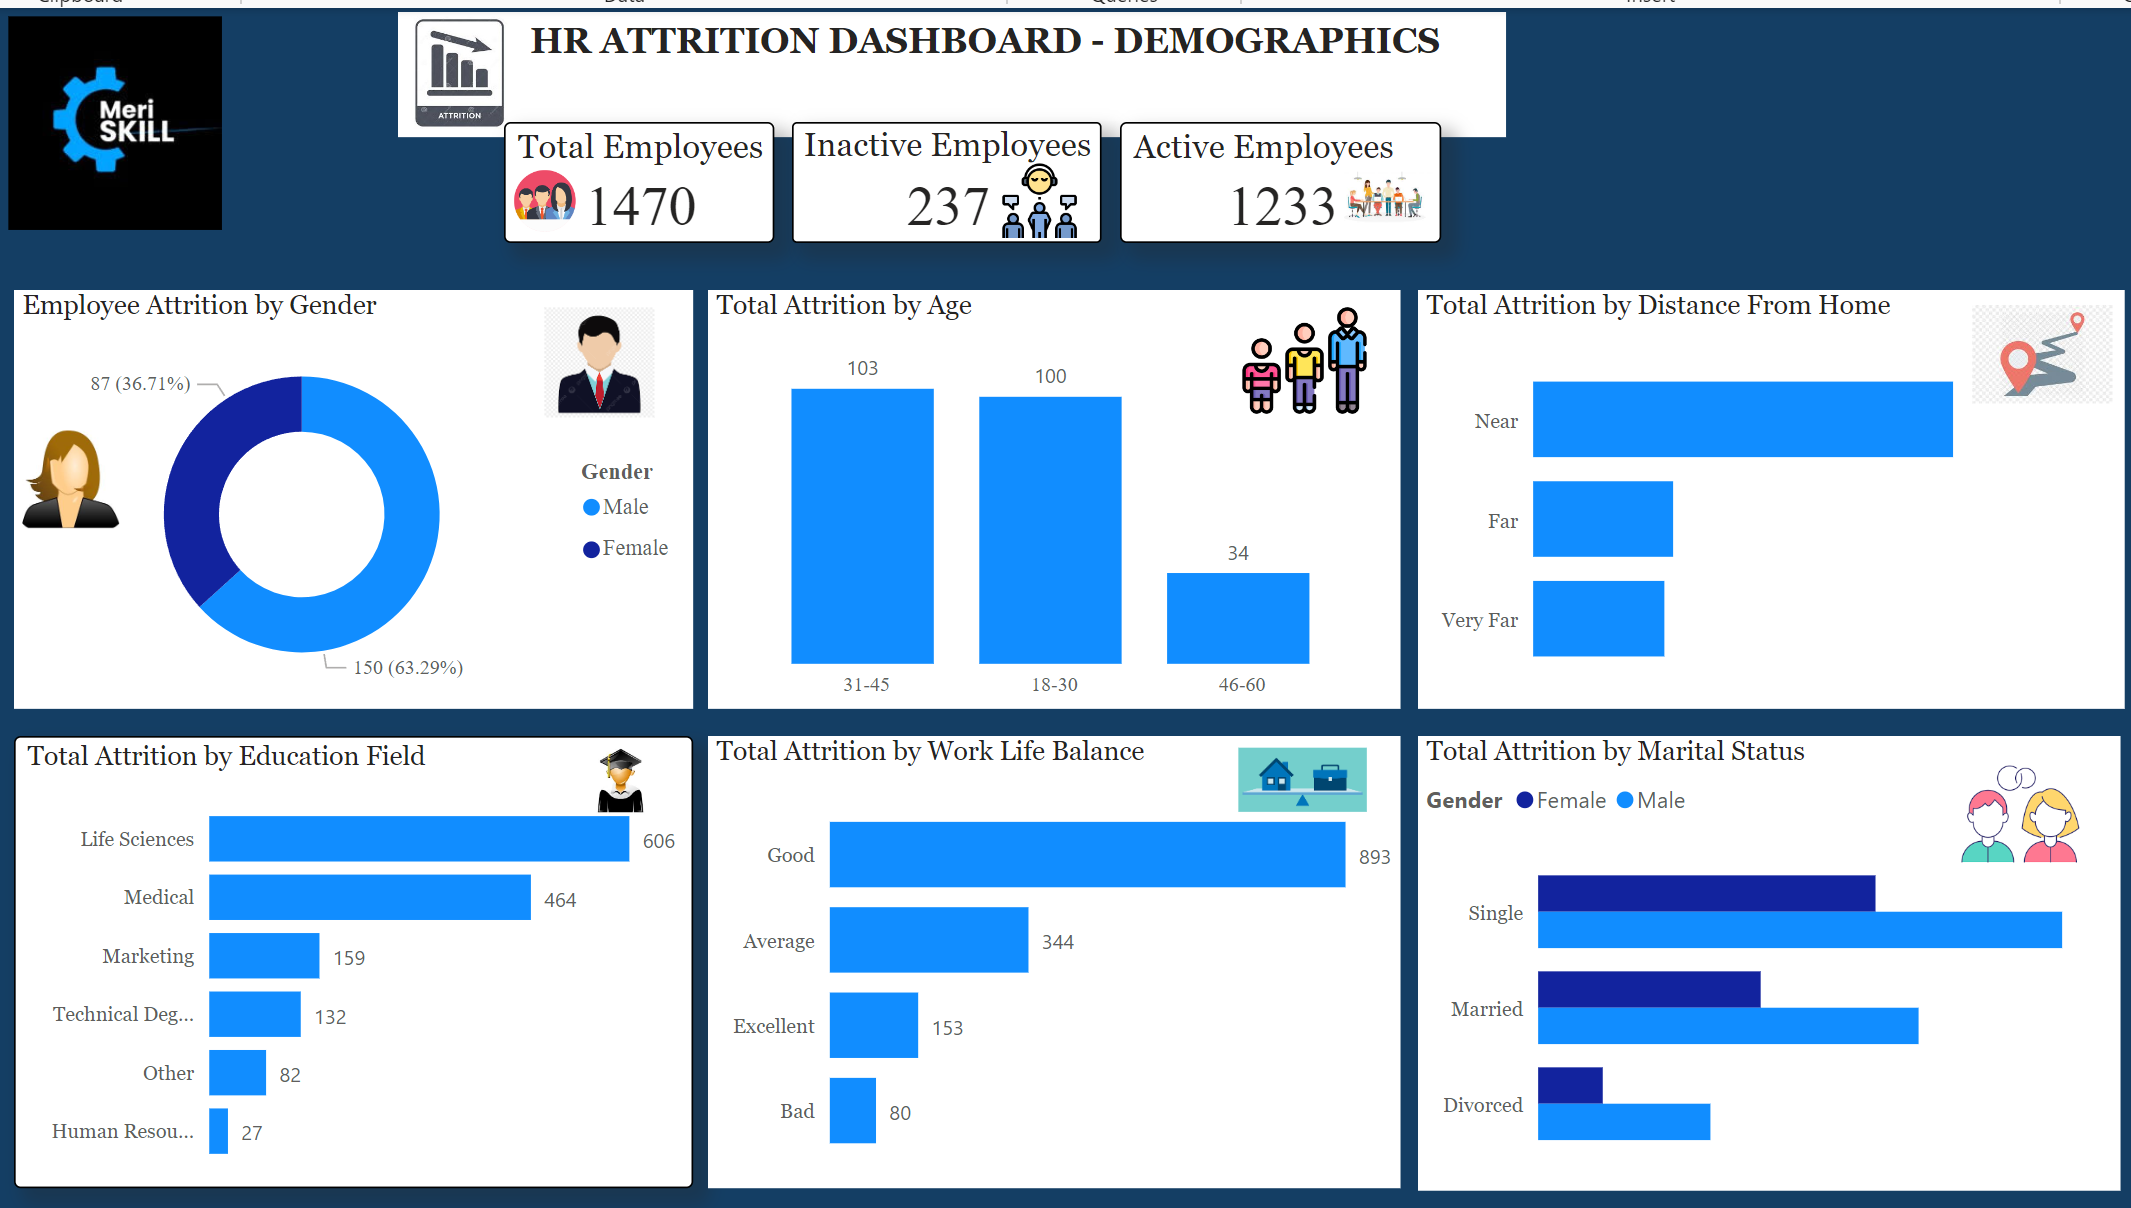

What the dashboard file says about the page in this screenshot:
{"tool":"powerbi","page":{"name":"DEMOGRAPHICS","canvas":[1280,720],"ordinal":0},"visuals":[{"type":"textbox","box":[237.9,2.4,663.8,74.9],"z":0},{"type":"image","box":[237.9,0,73.8,77.3],"z":1000},{"type":"image","box":[0,0,138,138],"z":2000},{"type":"card","title":"Total Employees","fields":{"Values":["Sum(HR-Employee-Attrition.Employee Count)"]},"box":[302.2,67.8,161.8,72.6],"z":3000},{"type":"image","box":[302.2,91.6,48.8,48.8],"z":4000},{"type":"clusteredBarChart","fields":{"Y":["HR-Employee-Attrition.Total Attrition"],"Category":["HR-Employee-Attrition.Education Field"]},"box":[8.3,436.6,406.8,271.2],"z":5000},{"type":"card","title":"Inactive Employees","fields":{"Values":["Sum(HR-Employee-Attrition.Attraction Count)"]},"box":[474.6,67.8,185.6,72.6],"z":6000},{"type":"card","title":"Active Employees","fields":{"Values":["HR-Employee-Attrition.Active Employees"]},"box":[670.9,67.8,192.7,72.6],"z":7000},{"type":"image","box":[795.8,91.6,67.8,46.4],"z":8000},{"type":"image","box":[594.8,88,57.1,55.9],"z":9000},{"type":"clusteredBarChart","title":"Total Attrition by Work Life Balance","fields":{"Category":["HR-Employee-Attrition.Work Life Balance (groups)"],"Y":["HR-Employee-Attrition.Total Attrition"]},"box":[424.7,436.6,415.2,271.2],"z":10000},{"type":"columnChart","title":"Total Attrition by Age","fields":{"Category":["HR-Employee-Attrition.Age (groups)"],"Y":["Sum(HR-Employee-Attrition.Attraction Count)"]},"box":[424.7,168.9,415.2,251],"z":11000},{"type":"barChart","title":"Total Attrition by Distance From Home","fields":{"Category":["HR-Employee-Attrition.Distance From Home (groups)"],"Y":["Sum(HR-Employee-Attrition.Attraction Count)"]},"box":[849.4,168.9,423.5,251],"z":12000},{"type":"clusteredBarChart","title":"Total Attrition by Marital Status","fields":{"Category":["HR-Employee-Attrition.Marital Status"],"Y":["Sum(HR-Employee-Attrition.Attraction Count)"],"Series":["HR-Employee-Attrition.Gender"]},"box":[849.4,436.6,421.1,272.4],"z":13000},{"type":"donutChart","title":"Employee Attrition by Gender","fields":{"Category":["HR-Employee-Attrition.Gender"],"Y":["Sum(HR-Employee-Attrition.Attraction Count)"]},"box":[8.3,168.9,406.8,251],"z":14000},{"type":"image","box":[1158.7,436.6,103.5,86.8],"z":15000},{"type":"image","box":[1176.5,168.9,94,77.3],"z":16000},{"type":"image","box":[739.9,168.9,84.5,84.5],"z":17000},{"type":"image","box":[737.5,436.6,86.8,52.3],"z":18000},{"type":"image","box":[346.2,437.8,51.2,51.2],"z":19000},{"type":"image","box":[321.2,171.3,76.1,82.1],"z":20000},{"type":"image","box":[8.3,246.2,67.8,73.8],"z":21000}]}

Visuals, with their boxes on the page's 1280x720 design canvas (x1, y1, x2, y2). These are canvas units, not pixel positions in the 2131x1208 screenshot, which may show the page scaled, cropped or inside an application window:
textbox: (238, 2, 902, 77)
image: (238, 0, 312, 77)
image: (0, 0, 138, 138)
"Total Employees" card: (302, 68, 464, 140)
image: (302, 92, 351, 140)
clusteredBarChart - HR-Employee-Attrition.Total Attrition x HR-Employee-Attrition.Education Field: (8, 437, 415, 708)
"Inactive Employees" card: (475, 68, 660, 140)
"Active Employees" card: (671, 68, 864, 140)
image: (796, 92, 864, 138)
image: (595, 88, 652, 144)
"Total Attrition by Work Life Balance" clusteredBarChart: (425, 437, 840, 708)
"Total Attrition by Age" columnChart: (425, 169, 840, 420)
"Total Attrition by Distance From Home" barChart: (849, 169, 1273, 420)
"Total Attrition by Marital Status" clusteredBarChart: (849, 437, 1270, 709)
"Employee Attrition by Gender" donutChart: (8, 169, 415, 420)
image: (1159, 437, 1262, 523)
image: (1176, 169, 1270, 246)
image: (740, 169, 824, 253)
image: (738, 437, 824, 489)
image: (346, 438, 397, 489)
image: (321, 171, 397, 253)
image: (8, 246, 76, 320)
